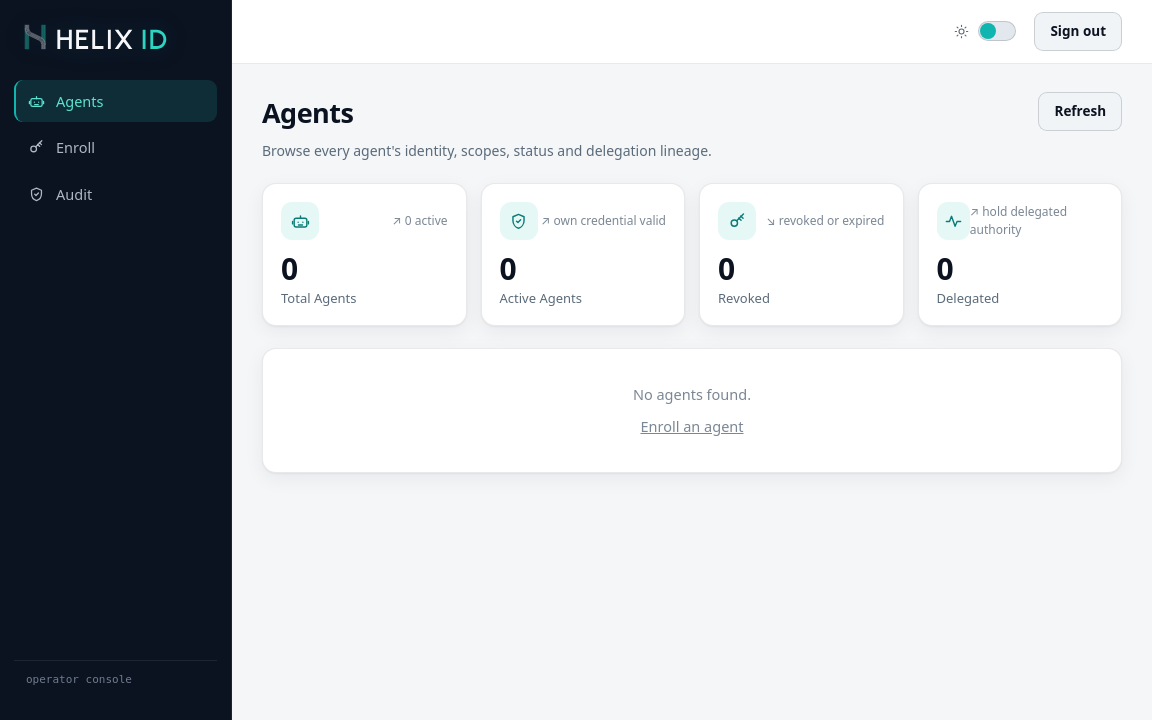
it: App shell + routing › signs out back to the login page
Expected: the heading "Agents" is shown, [262,94,353,131]
Click the button "Sign out".
click(1078, 31)  # box [1034,12,1122,51]
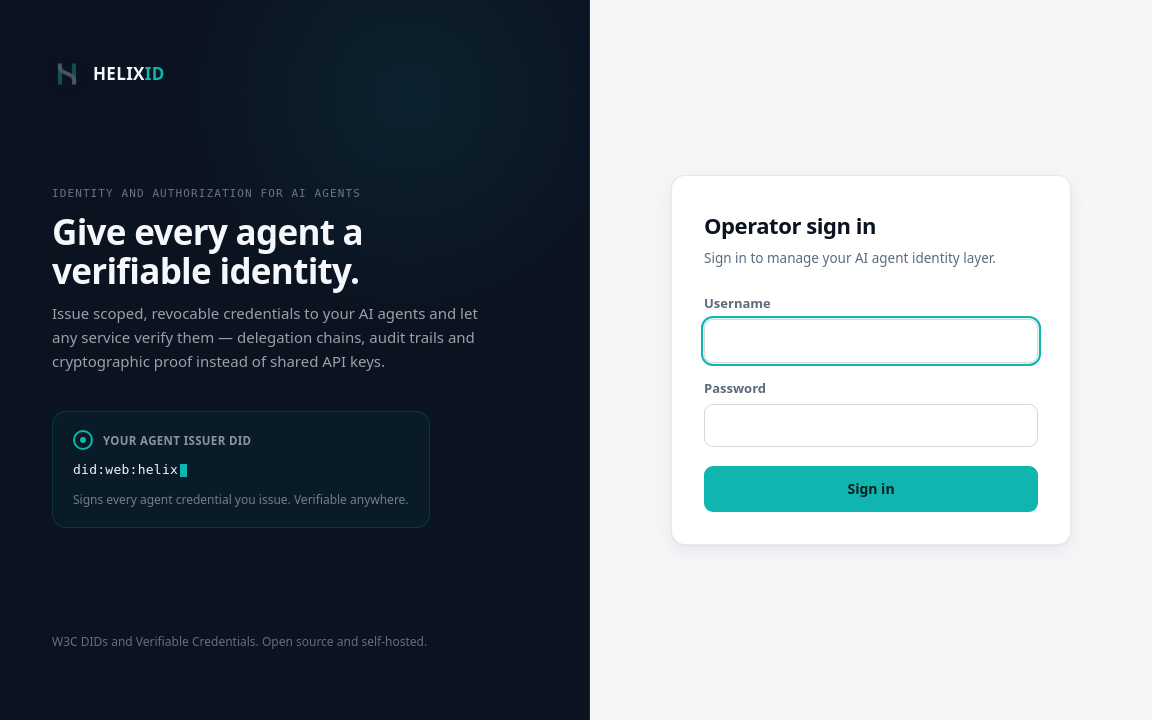
Expected: the heading "Operator sign in" is shown, [704,210,876,240]
